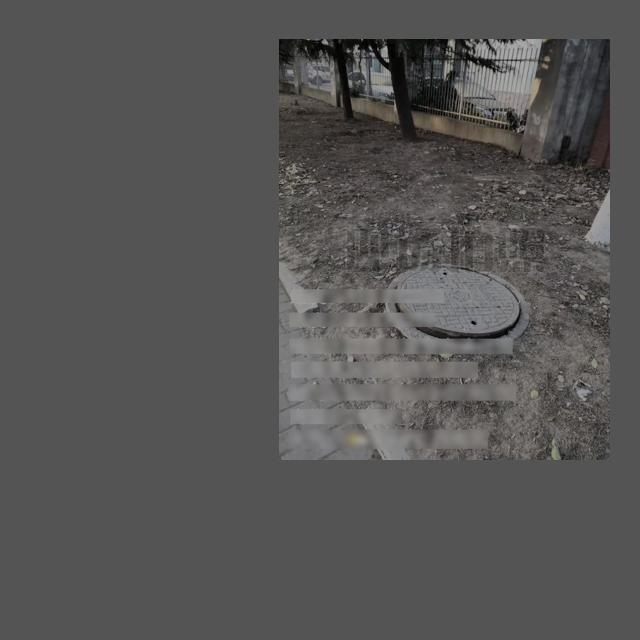uncovered: (386, 263, 529, 352)
